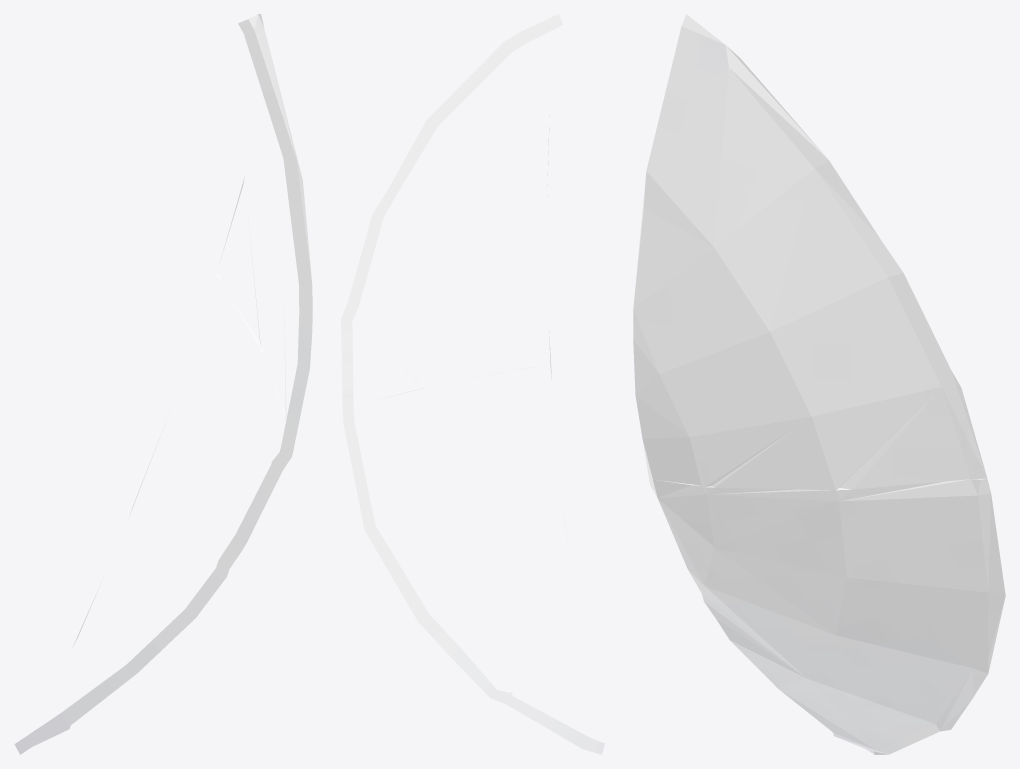
The model's file is congresso_tile_64.glb.
3 views of the same model, side by side, from view 1: azimuth 30°, elevation 25°; view 2: azimuth 150°, elevation 25°; view 3: azimuth 270°, elevation 25° (orthographic). The views are drawn at different scales.
Bounding box in the file's own units: 10.71 × 29.35 × 12.19.
Materials: 1 (1 with a texture image).
